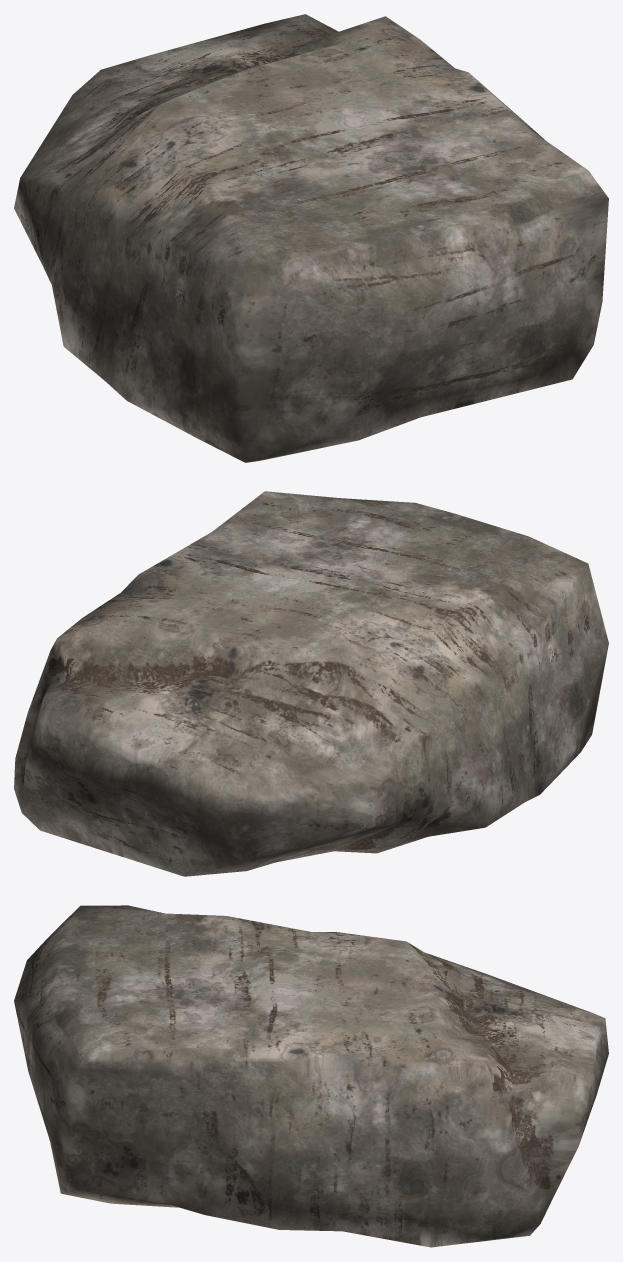
File: Rock_5.fbx
The picture shows the model from 3 angles, top to bottom: view 1: azimuth 30°, elevation 25°; view 2: azimuth 150°, elevation 25°; view 3: azimuth 270°, elevation 25°; orthographic projection. The views are drawn at different scales.
Parts seen in each view (by area): view 1: Rock_5; view 2: Rock_5; view 3: Rock_5.
Boxes of the visible parts, x1=… form: Rock_5: x1=14, y1=14, x2=608, y2=462; Rock_5: x1=14, y1=491, x2=608, y2=876; Rock_5: x1=14, y1=905, x2=608, y2=1247.
Size of the model in its own units: 473 by 228 by 641.
1 material, 1 textured.
